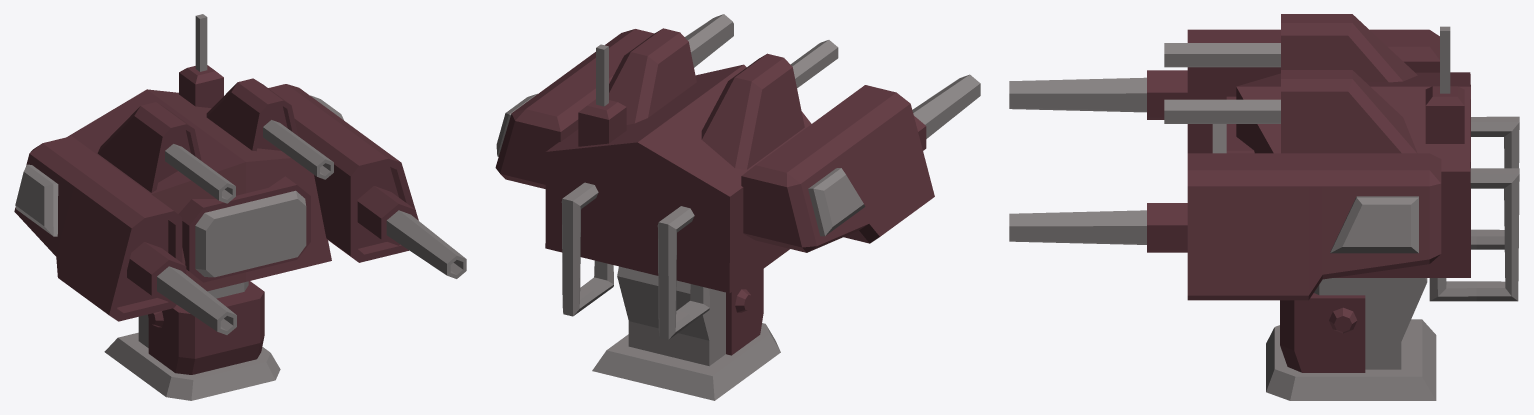
Rendered from scifi-turret-head-artillery-big.fbx.
3 views of the same model, side by side, from view 1: azimuth 30°, elevation 25°; view 2: azimuth 150°, elevation 25°; view 3: azimuth 270°, elevation 25° (orthographic). The views are drawn at different scales.
Parts seen in each view (by area): view 1: scifi-turret-head-artillery-big; view 2: scifi-turret-head-artillery-big; view 3: scifi-turret-head-artillery-big.
Part boxes in pixels (x1,y1,x2,y2): scifi-turret-head-artillery-big: [14, 14, 466, 400]; scifi-turret-head-artillery-big: [495, 14, 980, 400]; scifi-turret-head-artillery-big: [1009, 14, 1519, 400].
Size of the model in its own units: 3.52 by 3.29 by 4.17.
